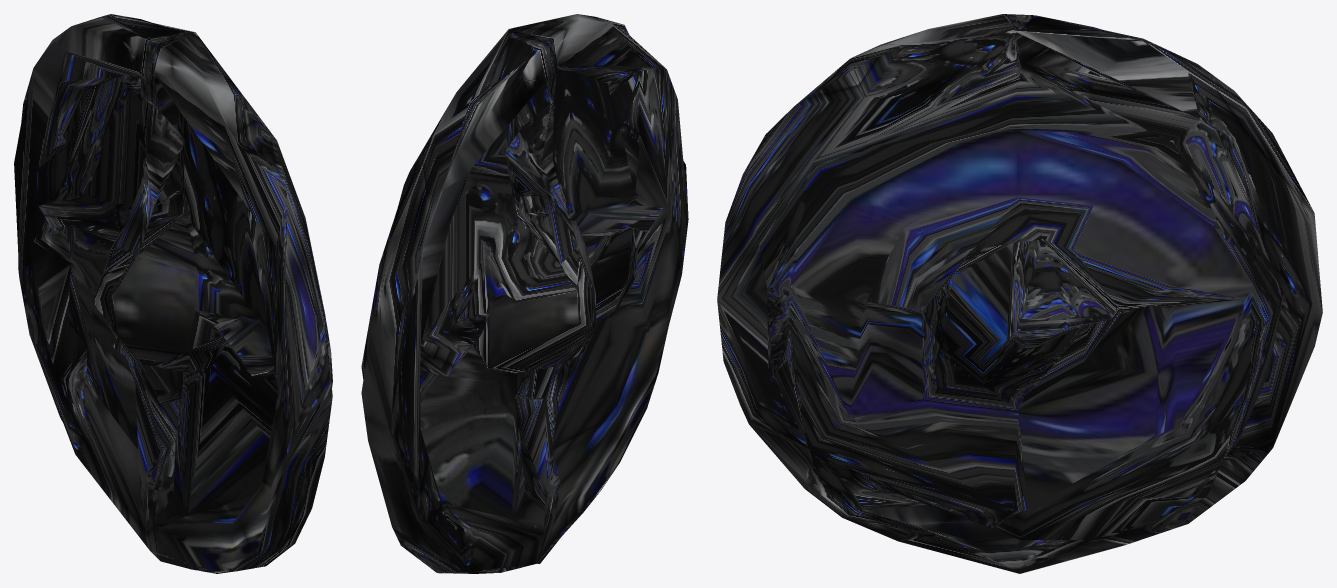
File: shield.glb
3 views of the same model, side by side, from view 1: azimuth 30°, elevation 25°; view 2: azimuth 150°, elevation 25°; view 3: azimuth 270°, elevation 25° (orthographic). The views are drawn at different scales.
Visible parts, largest first — view 1: shield; view 2: shield; view 3: shield.
Part boxes in pixels (bbox=[...]): shield: bbox=[14, 14, 332, 573]; shield: bbox=[361, 14, 688, 573]; shield: bbox=[717, 14, 1322, 573].
Bounding box in the file's own units: 0.2953 × 0.988 × 0.9921.
1 material, 1 textured.
